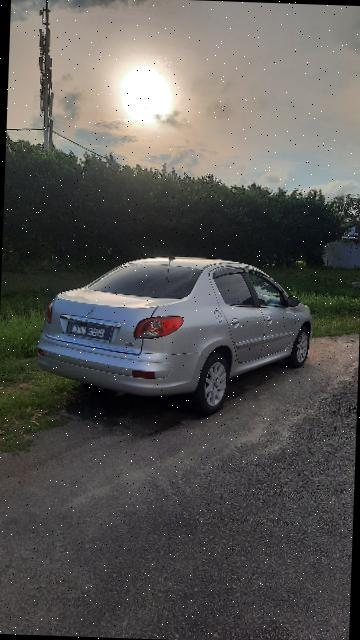License_Plate: (63, 317, 121, 346)
car: (25, 245, 316, 416)
